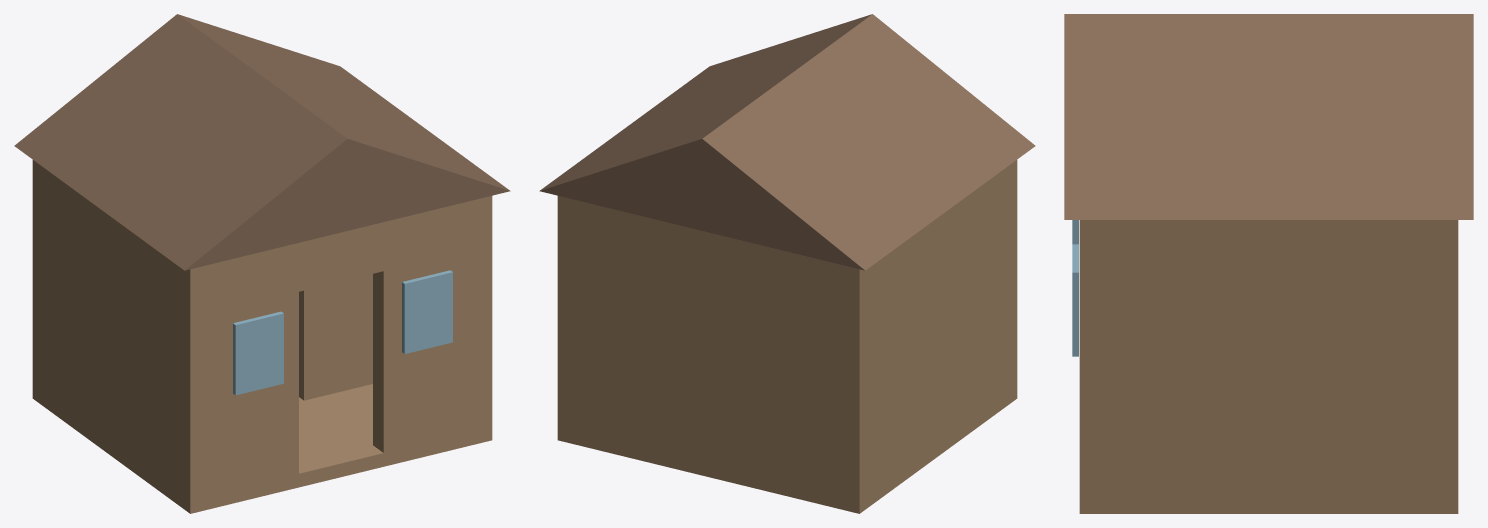
Rendered from building.glb.
The picture shows the model from 3 angles, left to right: view 1: azimuth 30°, elevation 25°; view 2: azimuth 150°, elevation 25°; view 3: azimuth 270°, elevation 25°; orthographic projection. The views are drawn at different scales.
Visible parts, largest first — view 1: building_0_14, building_0_1, building_0_5, building_0_4, building_0_0, building_0_8, building_0_2, building_0_6, building_0_10, building_0_11, building_0_7; view 2: building_0_14, building_0_3, building_0_1, building_0_2, building_0_0, building_0_7; view 3: building_0_2, building_0_14, building_0_0, building_0_8, building_0_11.
Boxes of the visible parts, x1,y1,x2,y2 form: building_0_14: [14, 14, 510, 270]; building_0_1: [32, 160, 208, 513]; building_0_5: [373, 200, 473, 466]; building_0_4: [208, 243, 298, 508]; building_0_0: [32, 384, 492, 513]; building_0_8: [299, 274, 372, 400]; building_0_2: [474, 196, 492, 444]; building_0_6: [299, 222, 383, 291]; building_0_10: [233, 311, 283, 395]; building_0_11: [402, 270, 452, 353]; building_0_7: [106, 214, 116, 459]; building_0_14: [539, 14, 1035, 270]; building_0_3: [576, 200, 841, 509]; building_0_1: [841, 160, 1017, 513]; building_0_2: [557, 196, 575, 444]; building_0_0: [557, 385, 1017, 513]; building_0_7: [937, 213, 943, 455]; building_0_2: [1079, 220, 1458, 513]; building_0_14: [1064, 14, 1473, 219]; building_0_0: [1079, 497, 1458, 513]; building_0_8: [1256, 220, 1281, 513]; building_0_11: [1072, 244, 1078, 356].
Size of the model in its own units: 3.49 by 3.5 by 3.16.
